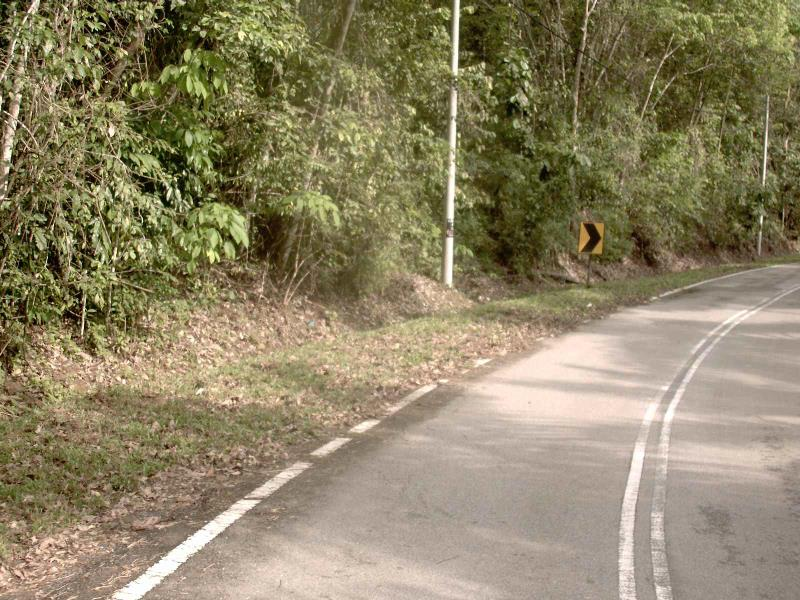traffic_sign: (570, 211, 612, 263)
